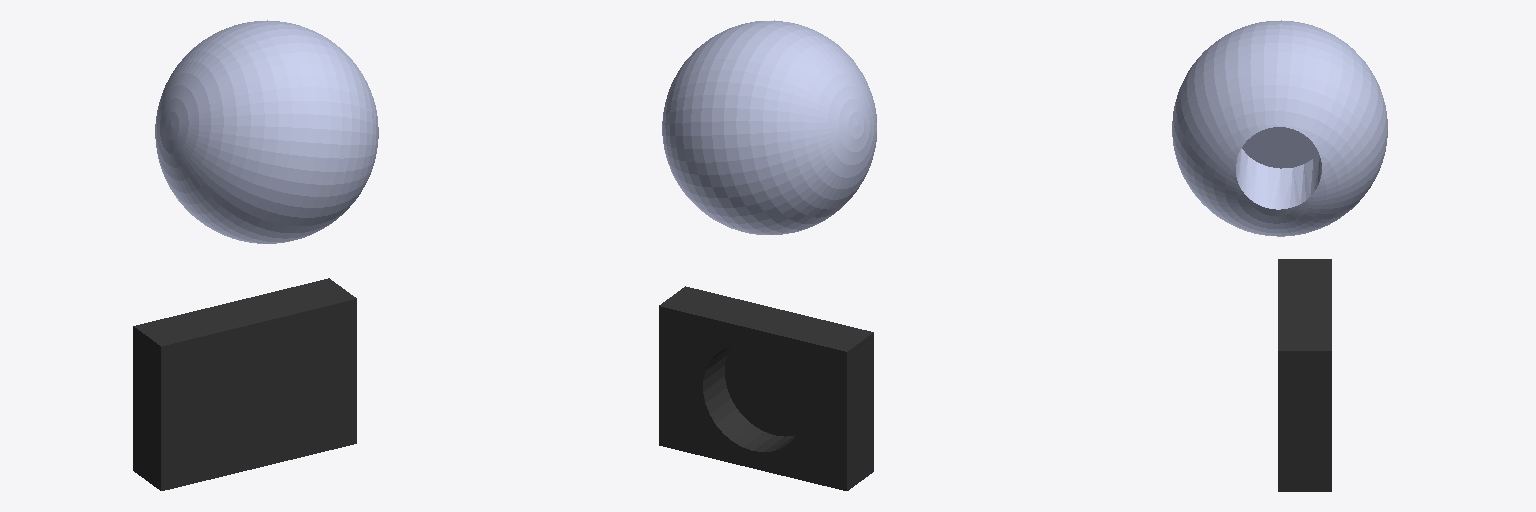
--- Facts derived from the render (not from the file) ---
The picture shows the robot from 3 angles, left to right: view 1: azimuth 30°, elevation 25°; view 2: azimuth 150°, elevation 25°; view 3: azimuth 270°, elevation 25°; orthographic projection.
Robot: ehn — 11 links, 10 joints (7 revolute, 3 fixed); root link world; default pose: all joints at 0.
Visible links, largest first — view 1: head_link, base_link; view 2: head_link, base_link; view 3: head_link, base_link.
Link boxes in pixels (left/top/right/bottom): head_link: left=155, top=20, right=378, bottom=243; base_link: left=133, top=278, right=356, bottom=490; head_link: left=662, top=20, right=876, bottom=234; base_link: left=659, top=286, right=873, bottom=490; head_link: left=1172, top=20, right=1387, bottom=236; base_link: left=1278, top=259, right=1331, bottom=491.
Size in the robot's own frame: 0.2028 by 0.1998 by 0.4275 metres.
Meshes: 4 distinct files referenced, 2 mesh visuals loaded (2 binary STL); not drawn: 2 (reference not matched to a file when rendering).

URDF robot description (ehn):
<?xml version="1.0" encoding="utf-8" ?>
<!-- This URDF was automatically created by SolidWorks to URDF Exporter! Originally created by Stephen Brawner ([email redacted]) 
     Commit Version: 1.6.0-1-g15f4949  Build Version: 1.6.7594.29634
     For more information, please see http://wiki.ros.org/sw_urdf_exporter -->
<robot name="ehn">
    <!--ros_control plugin-->
    <gazebo>
        <plugin name="gazebo_ros_control" filename="libgazebo_ros_control.so">
            <robotNamespace>ehn</robotNamespace>
        </plugin>
    </gazebo>
    <gazebo reference="head_joint">
        <provideFeedback>true</provideFeedback>
    </gazebo>
    <gazebo>
        <plugin name="ft_sensor_plugin" filename="libgazebo_ros_ft_sensor.so">
            <updateRate>1</updateRate>
            <topicName>ft_sensor/head_joint</topicName>
            <gaussianNoise>0.0</gaussianNoise>
            <jointName>head_joint</jointName>
            <frame>head_link</frame>
        </plugin>
    </gazebo>
    <gazebo reference="neck_joint1">
        <provideFeedback>true</provideFeedback>
    </gazebo>
    <gazebo>
        <plugin name="ft_sensor_plugin" filename="libgazebo_ros_ft_sensor.so">
            <updateRate>1</updateRate>
            <topicName>ft_sensor/neck_joint1</topicName>
            <gaussianNoise>0.0</gaussianNoise>
            <jointName>neck_joint1</jointName>
            <frame>neck_link</frame>
        </plugin>
    </gazebo>
    <gazebo reference="neck_joint2">
        <provideFeedback>true</provideFeedback>
    </gazebo>
    <gazebo>
        <plugin name="ft_sensor_plugin" filename="libgazebo_ros_ft_sensor.so">
            <updateRate>1</updateRate>
            <topicName>ft_sensor/neck_joint2</topicName>
            <gaussianNoise>0.0</gaussianNoise>
            <jointName>neck_joint2</jointName>
            <frame>neck_link</frame>
        </plugin>
    </gazebo>
    <gazebo reference="neck_joint3">
        <provideFeedback>true</provideFeedback>
    </gazebo>
    <gazebo>
        <plugin name="ft_sensor_plugin" filename="libgazebo_ros_ft_sensor.so">
            <updateRate>1</updateRate>
            <topicName>ft_sensor/neck_joint3</topicName>
            <gaussianNoise>0.0</gaussianNoise>
            <jointName>neck_joint3</jointName>
            <frame>neck_link</frame>
        </plugin>
    </gazebo>
    <plugin name="JointStatePublisher" filename="libJointStatePublisher.so">
        <joints>head_joint, neck_joint1, neck_joint2, neck_joint3</joints>
        <publish_selected_only>1</publish_selected_only>
    </plugin>
    <!-- * * * BASE LINK * * * -->
    <link name="world" />
    <link name="base_link">
        
<inertial>
            <origin xyz="0 0 0" rpy="0 0 0" />
            <mass value="5" />
            <inertia ixx="0.67109" ixy="0.5715" ixz="-0.036069" iyy="0.21011" iyz="-0.16464" izz="0.70362" />
        </inertial>

        <visual>
            <origin xyz="0 0 0" rpy="0 0 0" />
            <geometry>
                <mesh filename="package://ehn_description/meshes/torso.STL" scale="0.001 0.001 0.001" />
            </geometry>
            <material name="">
                <color rgba="0.25098 0.25098 0.25098 1" />
            </material>
        </visual>
        <collision>
            <origin xyz="0 0 0" rpy="0 0 0" />
            <geometry>
                <mesh filename="package://ehn_description/meshes/torso.STL" scale="0.001 0.001 0.001" />
            </geometry>
        </collision>
    </link>
    <gazebo reference="base_link">
        <kp>1000000.0</kp>
        <kd>1000000.0</kd>
        <mu1>1000000.0</mu1>
        <mu2>1000000.0</mu2>
        <material>Gazebo/Green</material>
    </gazebo>
    <joint name="dummy_joint" type="fixed">
        <origin xyz="0 0 0" rpy="0 0 0" />
        <parent link="world" />
        <child link="base_link" />
    </joint>
    <!-- * * * NECK LINK * * * -->
    <link name="neck_link">
        
<inertial>
            <origin xyz="0.000203483745243849 0.129685703832282 0.00262447328347798" rpy="0 0 0" />
            <mass value="0.1" />
            <inertia ixx="0.0120649057014717" ixy="1.81679347155662E-05" ixz="-1.50058183101914E-06" iyy="0.00164994565864921" iyz="-0.000288088632794543" izz="0.0121043532907629" />
        </inertial>

        <visual>
            <origin xyz="0 0 0" rpy="0 0 0" />
            <geometry>
                <mesh filename="package://ehn_description/meshes/neck.STL" scale="0.001 0.001 0.001" />
            </geometry>
            <material name="">
                <color rgba="0.79216 0.81961 0.93333 1" />
            </material>
        </visual>
        <collision>
            <origin xyz="0 0 0" rpy="0 0 0" />
            <geometry>
                <mesh filename="package://ehn_description/meshes/neck.STL" scale="0.001 0.001 0.001" />
            </geometry>
        </collision>
    </link>
    <gazebo reference="neck_link">
        <kp>1000000.0</kp>
        <kd>1.0</kd>
        <mu1>20.0</mu1>
        <mu2>10.0</mu2>
        <material>Gazebo/Green</material>
    </gazebo>
    <!-- * * * Neck Joint* * * -->
    <!--<joint
    name="neck_joint" type="fixed">
    <origin
      xyz="0 0 0" rpy="0 0 0" />
    <parent link="base_link" />
    <child link="neck_link1" />
  </joint>  -->
    <link name="neck_link1">
        
<inertial>
            <mass value="0.01" />
            <inertia ixx="1" ixy="0" ixz="0" iyy="1" iyz="0" izz="1" />
        </inertial>

    </link>
    <joint name="neck_joint1" type="revolute">
        <origin xyz="0 0 0" rpy="1.57 0 -3.14" />
        <parent link="base_link" />
        <child link="neck_link1" />
        <limit lower="-3" upper="3" effort="1000.0" velocity="100.0" />
        <!-- -0.57/+0.57 -->
        <axis xyz="1 0 0" />
    </joint>
    <link name="neck_link2">
        
<inertial>
            <mass value="0.01" />
            <inertia ixx="1" ixy="0" ixz="0" iyy="1" iyz="0" izz="1" />
        </inertial>

    </link>
    <joint name="neck_joint2" type="revolute">
        <origin xyz="0 0 0" rpy="0 0 0" />
        <parent link="neck_link1" />
        <child link="neck_link2" />
        <limit lower="-3" upper="3" effort="1000.0" velocity="100.0" />
        <!-- -0.8/+0.8 -->
        <axis xyz="0 1 0" />
    </joint>
    <link name="neck_link3">
        
<inertial>
            <mass value="0.01" />
            <inertia ixx="1" ixy="0" ixz="0" iyy="1" iyz="0" izz="1" />
        </inertial>

    </link>
    <joint name="neck_joint3" type="revolute">
        <origin xyz="0 0 0" rpy="0 0 0" />
        <parent link="neck_link2" />
        <child link="neck_link3" />
        <limit lower="-3" upper="3" effort="1000.0" velocity="100.0" />
        <!-- -0.4/+0.4 -->
        <axis xyz="0 0 1" />
    </joint>
    <joint name="neck_joint" type="fixed">
        <origin xyz="0 0 0" rpy="0 0 0" />
        <parent link="neck_link3" />
        <child link="neck_link" />
    </joint>
    <!--Connection between joint and actuator-->
    <transmission name="tran1">
        <type>transmission_interface/SimpleTransmission</type>
        <joint name="neck_joint1">
            <hardwareInterface>hardware_interface/EffortJointInterface</hardwareInterface>
        </joint>
        <actuator name="motor1">
            <hardwareInterface>EffortJointInterface</hardwareInterface>
            <mechanicalReduction>1</mechanicalReduction>
            <!--OPTIONAL-->
        </actuator>
    </transmission>
    <transmission name="tran2">
        <type>transmission_interface/SimpleTransmission</type>
        <joint name="neck_joint2">
            <hardwareInterface>hardware_interface/EffortJointInterface</hardwareInterface>
        </joint>
        <actuator name="motor2">
            <hardwareInterface>EffortJointInterface</hardwareInterface>
            <mechanicalReduction>1</mechanicalReduction>
        </actuator>
    </transmission>
    <transmission name="tran3">
        <type>transmission_interface/SimpleTransmission</type>
        <joint name="neck_joint3">
            <hardwareInterface>hardware_interface/EffortJointInterface</hardwareInterface>
        </joint>
        <actuator name="motor3">
            <hardwareInterface>EffortJointInterface</hardwareInterface>
            <mechanicalReduction>1</mechanicalReduction>
        </actuator>
    </transmission>
    <!-- * * * Link Head* * * -->
    <link name="head_link">
        
<inertial>
            <origin xyz="-0.0116041712056188 0.272728950455507 0.00591895153717838" rpy="0 0 0" />
            <mass value="2" />
            <inertia ixx="0.0205178602272685" ixy="-0.000160876227725919" ixz="8.2602748865904E-06" iyy="0.0190414278028778" iyz="5.45328192891528E-07" izz="0.0189138325061749" />
        </inertial>

        <visual>
            <origin xyz="0.01 -0.19 0" rpy="0 0 0" />
            <geometry>
                <mesh filename="package://ehn_description/meshes/head.STL" scale="0.001 0.001 0.001" />
            </geometry>
            <material name="">
                <color rgba="0.79216 0.81961 0.93333 1" />
            </material>
        </visual>
        <collision>
            <origin xyz="0.01 -0.19 0" rpy="0 0 0" />
            <geometry>
                <mesh filename="package://ehn_description/meshes/head.STL" scale="0.001 0.001 0.001" />
            </geometry>
        </collision>
    </link>
    <gazebo reference="head_link">
        <kp>1000000.0</kp>
        <kd>1.0</kd>
        <mu1>20.0</mu1>
        <mu2>10.0</mu2>
        <material>Gazebo/Green</material>
    </gazebo>
    <!-- * * * Head Joint* * * -->
    <joint name="head_joint" type="revolute">
        <origin xyz="0 0.2 0" rpy="0 0 0" />
        <!--0.028348 0.21166 0.015774-->
        <parent link="neck_link" />
        <child link="head_link" />
        <limit lower="-1" upper="1" effort="1000.0" velocity="100.0" />
        <axis xyz="0 0 1" />
    </joint>
    <transmission name="tran4">
        <type>transmission_interface/SimpleTransmission</type>
        <joint name="head_joint">
            <hardwareInterface>hardware_interface/EffortJointInterface</hardwareInterface>
        </joint>
        <actuator name="motor4">
            <hardwareInterface>EffortJointInterface</hardwareInterface>
            <mechanicalReduction>1</mechanicalReduction>
        </actuator>
    </transmission>
    <!-- * * * Link Eye* * * -->
    <link name="eye_link">
        
<inertial>
            <origin xyz="-1.02050279798833E-18 0 0" rpy="0 0 0" />
            <mass value="0.3" />
            <inertia ixx="0.000290508591446567" ixy="0" ixz="0" iyy="0.000290508591446567" iyz="0" izz="0.000290508591446567" />
        </inertial>

        <visual>
            <origin xyz="0.09 -0.27 -0.0027" rpy="0 0 0" />
            <geometry>
                <mesh filename="package://ehn_description/meshes/eye.STL" scale="0.001 0.001 0.001" />
            </geometry>
            <material name="">
                <color rgba="0.50196 0.50196 0.50196 1" />
            </material>
        </visual>
        <collision>
            <origin xyz="0.09 -0.27 -0.0027" rpy="0 0 0" />
            <geometry>
                <mesh filename="package://ehn_description/meshes/eye.STL" scale="0.001 0.001 0.001" />
            </geometry>
        </collision>
    </link>
    <gazebo reference="eye_link">
        <kp>1000000.0</kp>
        <kd>1000000.0</kd>
        <mu1>10.0</mu1>
        <mu2>10.0</mu2>
        <material>Gazebo/Blue</material>
    </gazebo>
    <!-- * * * Eye joint* * * -->
    <!--<joint
    name="eye_joint" type="fixed">
    <origin
      xyz="0.0032992 0.058741 -0.011773" rpy="0 0 0" />
    <parent link="head_link" />
    <child link="eye_link1" />
  </joint> -->
    <link name="eye_link1">
        
<inertial>
            <mass value="0.001" />
            <inertia ixx="5.8083e-4" ixy="0" ixz="0" iyy="3.0833e-5" iyz="0" izz="5.9083e-4" />
        </inertial>

    </link>
    <joint name="eye_joint1" type="revolute">
        <origin xyz="-0.11 0.08 0" rpy="0 0 0" />
        <!--0.0032992 0.058741 -0.011773-->
        <parent link="head_link" />
        <child link="eye_link1" />
        <limit lower="-1.57" upper="1.57" effort="1000.0" velocity="100.0" />
        <axis xyz="1 0 0" />
    </joint>
    <link name="eye_link2">
        
<inertial>
            <mass value="0.001" />
            <inertia ixx="5.8083e-4" ixy="0" ixz="0" iyy="3.0833e-5" iyz="0" izz="5.9083e-4" />
        </inertial>

    </link>
    <joint name="eye_joint2" type="revolute">
        <origin xyz="0 0 0" rpy="0 0 0" />
        <parent link="eye_link1" />
        <child link="eye_link2" />
        <limit lower="-0.2" upper="0.2" effort="1000.0" velocity="100.0" />
        <axis xyz="0 1 0" />
    </joint>
    <link name="eye_link3">
        
<inertial>
            <mass value="0.001" />
            <inertia ixx="5.8083e-4" ixy="0" ixz="0" iyy="3.0833e-5" iyz="0" izz="5.9083e-4" />
        </inertial>

    </link>
    <joint name="eye_joint3" type="revolute">
        <origin xyz="0 0 0" rpy="0 0 0" />
        <parent link="eye_link2" />
        <child link="eye_link3" />
        <limit lower="-0.2" upper="0.2" effort="1000.0" velocity="100.0" />
        <axis xyz="0 0 1" />
    </joint>
    <joint name="eye_joint" type="fixed">
        <origin xyz="0 0 0" rpy="0 0 0" />
        <parent link="eye_link3" />
        <child link="eye_link" />
    </joint>
    <transmission name="tran5">
        <type>transmission_interface/SimpleTransmission</type>
        <joint name="eye_joint1">
            <hardwareInterface>hardware_interface/EffortJointInterface</hardwareInterface>
        </joint>
        <actuator name="motor5">
            <hardwareInterface>EffortJointInterface</hardwareInterface>
            <mechanicalReduction>1</mechanicalReduction>
        </actuator>
    </transmission>
    <transmission name="tran6">
        <type>transmission_interface/SimpleTransmission</type>
        <joint name="eye_joint2">
            <hardwareInterface>hardware_interface/EffortJointInterface</hardwareInterface>
        </joint>
        <actuator name="motor6">
            <hardwareInterface>EffortJointInterface</hardwareInterface>
            <mechanicalReduction>1</mechanicalReduction>
        </actuator>
    </transmission>
    <transmission name="tran7">
        <type>transmission_interface/SimpleTransmission</type>
        <joint name="eye_joint3">
            <hardwareInterface>hardware_interface/EffortJointInterface</hardwareInterface>
        </joint>
        <actuator name="motor7">
            <hardwareInterface>EffortJointInterface</hardwareInterface>
            <mechanicalReduction>1</mechanicalReduction>
        </actuator>
    </transmission>
    <transmission name="trans_neck_joint1">
        <type>transmission_interface/SimpleTransmission</type>
        <joint name="neck_joint1">
            <hardwareInterface>hardware_interface/EffortJointInterface</hardwareInterface>
        </joint>
        <actuator name="neck_joint1_motor">
            <hardwareInterface>hardware_interface/EffortJointInterface</hardwareInterface>
            <mechanicalReduction>1</mechanicalReduction>
        </actuator>
    </transmission>
    <transmission name="trans_neck_joint2">
        <type>transmission_interface/SimpleTransmission</type>
        <joint name="neck_joint2">
            <hardwareInterface>hardware_interface/EffortJointInterface</hardwareInterface>
        </joint>
        <actuator name="neck_joint2_motor">
            <hardwareInterface>hardware_interface/EffortJointInterface</hardwareInterface>
            <mechanicalReduction>1</mechanicalReduction>
        </actuator>
    </transmission>
    <transmission name="trans_neck_joint3">
        <type>transmission_interface/SimpleTransmission</type>
        <joint name="neck_joint3">
            <hardwareInterface>hardware_interface/EffortJointInterface</hardwareInterface>
        </joint>
        <actuator name="neck_joint3_motor">
            <hardwareInterface>hardware_interface/EffortJointInterface</hardwareInterface>
            <mechanicalReduction>1</mechanicalReduction>
        </actuator>
    </transmission>
    <transmission name="trans_head_joint">
        <type>transmission_interface/SimpleTransmission</type>
        <joint name="head_joint">
            <hardwareInterface>hardware_interface/EffortJointInterface</hardwareInterface>
        </joint>
        <actuator name="head_joint_motor">
            <hardwareInterface>hardware_interface/EffortJointInterface</hardwareInterface>
            <mechanicalReduction>1</mechanicalReduction>
        </actuator>
    </transmission>
    <transmission name="trans_eye_joint1">
        <type>transmission_interface/SimpleTransmission</type>
        <joint name="eye_joint1">
            <hardwareInterface>hardware_interface/EffortJointInterface</hardwareInterface>
        </joint>
        <actuator name="eye_joint1_motor">
            <hardwareInterface>hardware_interface/EffortJointInterface</hardwareInterface>
            <mechanicalReduction>1</mechanicalReduction>
        </actuator>
    </transmission>
    <transmission name="trans_eye_joint2">
        <type>transmission_interface/SimpleTransmission</type>
        <joint name="eye_joint2">
            <hardwareInterface>hardware_interface/EffortJointInterface</hardwareInterface>
        </joint>
        <actuator name="eye_joint2_motor">
            <hardwareInterface>hardware_interface/EffortJointInterface</hardwareInterface>
            <mechanicalReduction>1</mechanicalReduction>
        </actuator>
    </transmission>
    <transmission name="trans_eye_joint3">
        <type>transmission_interface/SimpleTransmission</type>
        <joint name="eye_joint3">
            <hardwareInterface>hardware_interface/EffortJointInterface</hardwareInterface>
        </joint>
        <actuator name="eye_joint3_motor">
            <hardwareInterface>hardware_interface/EffortJointInterface</hardwareInterface>
            <mechanicalReduction>1</mechanicalReduction>
        </actuator>
    </transmission>
    <gazebo>
        <plugin name="gazebo_ros_control" filename="libgazebo_ros_control.so">
            <robotNamespace>/</robotNamespace>
        </plugin>
    </gazebo>
</robot>

<!--<transmission name="tran1">
        <type>transmission_interface/SimpleTransmission</type>
        <joint name="neck_joint1">
            <hardwareInterface>hardware_interface/EffortJointInterface</hardwareInterface>
        </joint>
        <actuator name="motor1">
            <hardwareInterface>EffortJointInterface</hardwareInterface>
            <mechanicalReduction>1</mechanicalReduction>
            
        </actuator>
    </transmission>
    <transmission name="tran2">
        <type>transmission_interface/SimpleTransmission</type>
        <joint name="neck_joint2">
            <hardwareInterface>hardware_interface/EffortJointInterface</hardwareInterface>
        </joint>
        <actuator name="motor2">
            <hardwareInterface>EffortJointInterface</hardwareInterface>
            <mechanicalReduction>1</mechanicalReduction>
        </actuator>
    </transmission>
    <transmission name="tran3">
        <type>transmission_interface/SimpleTransmission</type>
        <joint name="neck_joint3">
            <hardwareInterface>hardware_interface/EffortJointInterface</hardwareInterface>
        </joint>
        <actuator name="motor3">
            <hardwareInterface>EffortJointInterface</hardwareInterface>
            <mechanicalReduction>1</mechanicalReduction>
        </actuator>
    </transmission>
    
    <link name="head_link">
        <inertial>
            <origin xyz="-0.0116041712056188 0.272728950455507 0.00591895153717838" rpy="0 0 0" />
            <mass value="2" />
            <inertia ixx="0.0205178602272685" ixy="-0.000160876227725919" ixz="8.2602748865904E-06" iyy="0.0190414278028778" iyz="5.45328192891528E-07" izz="0.0189138325061749" />
        </inertial>
        <visual>
            <origin xyz="0.01 -0.19 0" rpy="0 0 0" />
            <geometry>
                <mesh filename="package://ehn_description/meshes/head.STL" scale="0.001 0.001 0.001" />
            </geometry>
            <material name="">
                <color rgba="0.79216 0.81961 0.93333 1" />
            </material>
        </visual>
        <collision>
            <origin xyz="0.01 -0.19 0" rpy="0 0 0" />
            <geometry>
                <mesh filename="package://ehn_description/meshes/head.STL" scale="0.001 0.001 0.001" />
            </geometry>
        </collision>
    </link>
    <gazebo reference="head_link">
        <kp>1000000.0</kp>
        <kd>1.0</kd>
        <mu1>20.0</mu1>
        <mu2>10.0</mu2>
        <material>Gazebo/Green</material>
    </gazebo> -->
    
    <!--<joint name="head_joint" type="revolute">
        <origin xyz="0 0.2 0" rpy="0 0 0" /> -->
        <!--0.028348 0.21166 0.015774--> 
       <!-- <parent link="neck_link" />
        <child link="head_link" />
        <limit lower="-1" upper="1" effort="1000.0" velocity="100.0" />
        <axis xyz="0 0 1" />
    </joint>
    <transmission name="tran4">
        <type>transmission_interface/SimpleTransmission</type>
        <joint name="head_joint">
            <hardwareInterface>hardware_interface/EffortJointInterface</hardwareInterface>
        </joint>
        <actuator name="motor4">
            <hardwareInterface>EffortJointInterface</hardwareInterface>
            <mechanicalReduction>1</mechanicalReduction>
        </actuator>
    </transmission>
  
    <link name="eye_link">
        <inertial>
            <origin xyz="-1.02050279798833E-18 0 0" rpy="0 0 0" />
            <mass value="0.3" />
            <inertia ixx="0.000290508591446567" ixy="0" ixz="0" iyy="0.000290508591446567" iyz="0" izz="0.000290508591446567" />
        </inertial>
        <visual>
            <origin xyz="0.09 -0.27 -0.0027" rpy="0 0 0" />
            <geometry>
                <mesh filename="package://ehn_description/meshes/eye.STL" scale="0.001 0.001 0.001" />
            </geometry>
            <material name="">
                <color rgba="0.50196 0.50196 0.50196 1" />
            </material>
        </visual>
        <collision>
            <origin xyz="0.09 -0.27 -0.0027" rpy="0 0 0" />
            <geometry>
                <mesh filename="package://ehn_description/meshes/eye.STL" scale="0.001 0.001 0.001" />
            </geometry>
        </collision>
    </link>
    <gazebo reference="eye_link">
        <kp>1000000.0</kp>
        <kd>1000000.0</kd>
        <mu1>10.0</mu1>
        <mu2>10.0</mu2>
        <material>Gazebo/Blue</material>
    </gazebo> -->
    <!-- * * * Eye joint* * * -->
    <!--<joint
    name="eye_joint" type="fixed">
    <origin
      xyz="0.0032992 0.058741 -0.011773" rpy="0 0 0" />
    <parent link="head_link" />
    <child link="eye_link1" />
  </joint> -->
    <!--<link name="eye_link1">
        <inertial>
            <mass value="0.001" />
            <inertia ixx="5.8083e-4" ixy="0" ixz="0" iyy="3.0833e-5" iyz="0" izz="5.9083e-4" />
        </inertial>
    </link>
    <joint name="eye_joint1" type="revolute">
        <origin xyz="-0.11 0.08 0" rpy="0 0 0" /> -->
        <!--0.0032992 0.058741 -0.011773-->
      <!--  <parent link="head_link" />
        <child link="eye_link1" />
        <limit lower="-1.57" upper="1.57" effort="1000.0" velocity="100.0" />
        <axis xyz="1 0 0" />
    </joint>
    <link name="eye_link2">
        <inertial>
            <mass value="0.001" />
            <inertia ixx="5.8083e-4" ixy="0" ixz="0" iyy="3.0833e-5" iyz="0" izz="5.9083e-4" />
        </inertial>
    </link>
    <joint name="eye_joint2" type="revolute">
        <origin xyz="0 0 0" rpy="0 0 0" />
        <parent link="eye_link1" />
        <child link="eye_link2" />
        <limit lower="-0.2" upper="0.2" effort="1000.0" velocity="100.0" />
        <axis xyz="0 1 0" />
    </joint>
    <link name="eye_link3">
        <inertial>
            <mass value="0.001" />
            <inertia ixx="5.8083e-4" ixy="0" ixz="0" iyy="3.0833e-5" iyz="0" izz="5.9083e-4" />
        </inertial>
    </link>
    <joint name="eye_joint3" type="revolute">
        <origin xyz="0 0 0" rpy="0 0 0" />
        <parent link="eye_link2" />
        <child link="eye_link3" />
        <limit lower="-0.2" upper="0.2" effort="1000.0" velocity="100.0" />
        <axis xyz="0 0 1" />
    </joint>
    <joint name="eye_joint" type="fixed">
        <origin xyz="0 0 0" rpy="0 0 0" />
        <parent link="eye_link3" />
        <child link="eye_link" />
    </joint>
    <transmission name="tran5">
        <type>transmission_interface/SimpleTransmission</type>
        <joint name="eye_joint1">
            <hardwareInterface>hardware_interface/EffortJointInterface</hardwareInterface>
        </joint>
        <actuator name="motor5">
            <hardwareInterface>EffortJointInterface</hardwareInterface>
            <mechanicalReduction>1</mechanicalReduction>
        </actuator>
    </transmission>
    <transmission name="tran6">
        <type>transmission_interface/SimpleTransmission</type>
        <joint name="eye_joint2">
            <hardwareInterface>hardware_interface/EffortJointInterface</hardwareInterface>
        </joint>
        <actuator name="motor6">
            <hardwareInterface>EffortJointInterface</hardwareInterface>
            <mechanicalReduction>1</mechanicalReduction>
        </actuator>
    </transmission>
    <transmission name="tran7">
        <type>transmission_interface/SimpleTransmission</type>
        <joint name="eye_joint3">
            <hardwareInterface>hardware_interface/EffortJointInterface</hardwareInterface>
        </joint>
        <actuator name="motor7">
            <hardwareInterface>EffortJointInterface</hardwareInterface>
            <mechanicalReduction>1</mechanicalReduction>
        </actuator>
    </transmission>
    <transmission name="trans_neck_joint1">
        <type>transmission_interface/SimpleTransmission</type>
        <joint name="neck_joint1">
            <hardwareInterface>hardware_interface/EffortJointInterface</hardwareInterface>
        </joint>
        <actuator name="neck_joint1_motor">
            <hardwareInterface>hardware_interface/EffortJointInterface</hardwareInterface>
            <mechanicalReduction>1</mechanicalReduction>
        </actuator>
    </transmission>
    <transmission name="trans_neck_joint2">
        <type>transmission_interface/SimpleTransmission</type>
        <joint name="neck_joint2">
            <hardwareInterface>hardware_interface/EffortJointInterface</hardwareInterface>
        </joint>
        <actuator name="neck_joint2_motor">
            <hardwareInterface>hardware_interface/EffortJointInterface</hardwareInterface>
            <mechanicalReduction>1</mechanicalReduction>
        </actuator>
    </transmission>
    <transmission name="trans_neck_joint3">
        <type>transmission_interface/SimpleTransmission</type>
        <joint name="neck_joint3">
            <hardwareInterface>hardware_interface/EffortJointInterface</hardwareInterface>
        </joint>
        <actuator name="neck_joint3_motor">
            <hardwareInterface>hardware_interface/EffortJointInterface</hardwareInterface>
            <mechanicalReduction>1</mechanicalReduction>
        </actuator>
    </transmission>
    <transmission name="trans_head_joint">
        <type>transmission_interface/SimpleTransmission</type>
        <joint name="head_joint">
            <hardwareInterface>hardware_interface/EffortJointInterface</hardwareInterface>
        </joint>
        <actuator name="head_joint_motor">
            <hardwareInterface>hardware_interface/EffortJointInterface</hardwareInterface>
            <mechanicalReduction>1</mechanicalReduction>
        </actuator>
    </transmission>
    <transmission name="trans_eye_joint1">
        <type>transmission_interface/SimpleTransmission</type>
        <joint name="eye_joint1">
            <hardwareInterface>hardware_interface/EffortJointInterface</hardwareInterface>
        </joint>
        <actuator name="eye_joint1_motor">
            <hardwareInterface>hardware_interface/EffortJointInterface</hardwareInterface>
            <mechanicalReduction>1</mechanicalReduction>
        </actuator>
    </transmission>
    <transmission name="trans_eye_joint2">
        <type>transmission_interface/SimpleTransmission</type>
        <joint name="eye_joint2">
            <hardwareInterface>hardware_interface/EffortJointInterface</hardwareInterface>
        </joint>
        <actuator name="eye_joint2_motor">
            <hardwareInterface>hardware_interface/EffortJointInterface</hardwareInterface>
            <mechanicalReduction>1</mechanicalReduction>
        </actuator>
    </transmission>
    <transmission name="trans_eye_joint3">
        <type>transmission_interface/SimpleTransmission</type>
        <joint name="eye_joint3">
            <hardwareInterface>hardware_interface/EffortJointInterface</hardwareInterface>
        </joint>
        <actuator name="eye_joint3_motor">
            <hardwareInterface>hardware_interface/EffortJointInterface</hardwareInterface>
            <mechanicalReduction>1</mechanicalReduction>
        </actuator>
    </transmission>
    <gazebo>
        <plugin name="gazebo_ros_control" filename="libgazebo_ros_control.so">
            <robotNamespace>/</robotNamespace>
        </plugin>
    </gazebo>
</robot> -->
